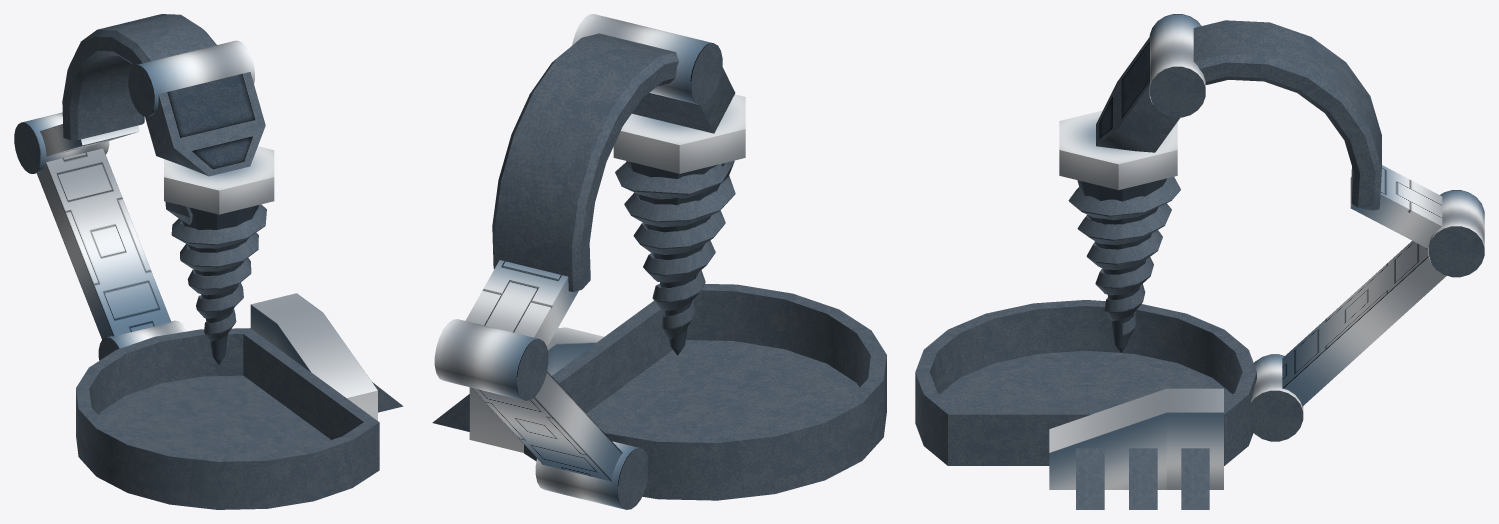
File: Driller.fbx
The picture shows the model from 3 angles, left to right: view 1: azimuth 30°, elevation 25°; view 2: azimuth 150°, elevation 25°; view 3: azimuth 270°, elevation 25°; orthographic projection. The views are drawn at different scales.
Visible parts, largest first — view 1: Base (×2), Big_Arm, Arc, Drill_Connector, Support_Frame, Blade, Drill_Base, rotater_02, rotater_1, Small_Arm, Main_Ctrl; view 2: Base (×2), Arc, Blade, Big_Arm, rotater_1, Drill_Base, Small_Arm, rotater_02, Main_Ctrl, Support_Frame, Drill_Connector, pCube6; view 3: Base (×2), Arc, Support_Frame, Big_Arm, Blade, Drill_Base, Drill_Connector, rotater_02, rotater_1, Small_Arm, Main_Ctrl, pCube4 (+2 smaller).
Boxes of the visible parts, x1,y1,x2,y2 form: Base (×2): (76, 205, 379, 509); Big_Arm: (37, 148, 171, 339); Arc: (62, 14, 216, 140); Drill_Connector: (145, 72, 265, 176); Support_Frame: (250, 293, 377, 420); Blade: (165, 201, 266, 343); Drill_Base: (164, 146, 274, 214); rotater_02: (128, 40, 254, 116); rotater_1: (14, 112, 109, 173); Small_Arm: (40, 124, 139, 156); Main_Ctrl: (98, 320, 187, 360); Base (×2): (524, 161, 886, 500); Arc: (492, 33, 678, 291); Blade: (615, 160, 735, 341); Big_Arm: (472, 371, 622, 481); rotater_1: (434, 319, 548, 400); Drill_Base: (613, 94, 745, 173); Small_Arm: (465, 260, 578, 346); rotater_02: (572, 14, 722, 104); Main_Ctrl: (535, 441, 647, 509); Support_Frame: (469, 327, 604, 452); Drill_Connector: (632, 67, 735, 133); pCube6: (432, 394, 469, 431); Base (×2): (915, 178, 1256, 465); Arc: (1193, 20, 1381, 210); Support_Frame: (1049, 388, 1223, 489); Big_Arm: (1282, 240, 1446, 406); Blade: (1068, 177, 1180, 343); Drill_Base: (1059, 110, 1177, 190); Drill_Connector: (1096, 37, 1179, 152); rotater_02: (1149, 14, 1205, 117); rotater_1: (1428, 190, 1484, 277); Small_Arm: (1350, 165, 1442, 248); Main_Ctrl: (1250, 354, 1303, 441); pCube4: (1076, 448, 1104, 509).
Bounding box in the file's own units: 6.59 × 7.49 × 9.99.
